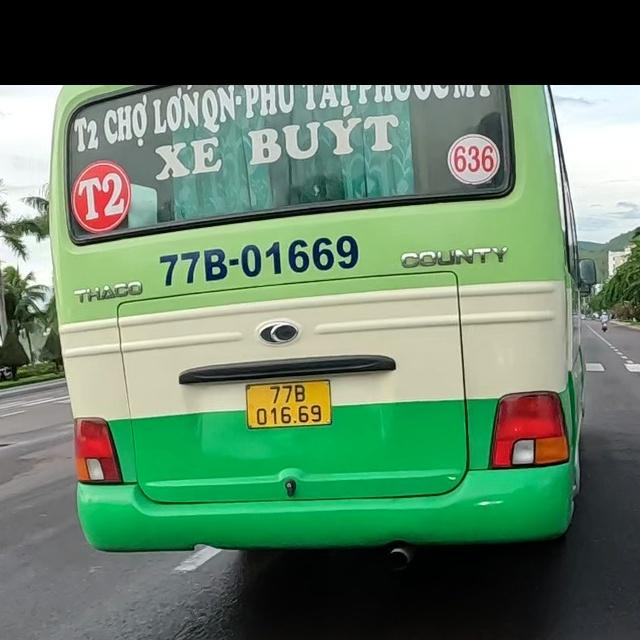license-plate: (246, 380, 332, 430)
